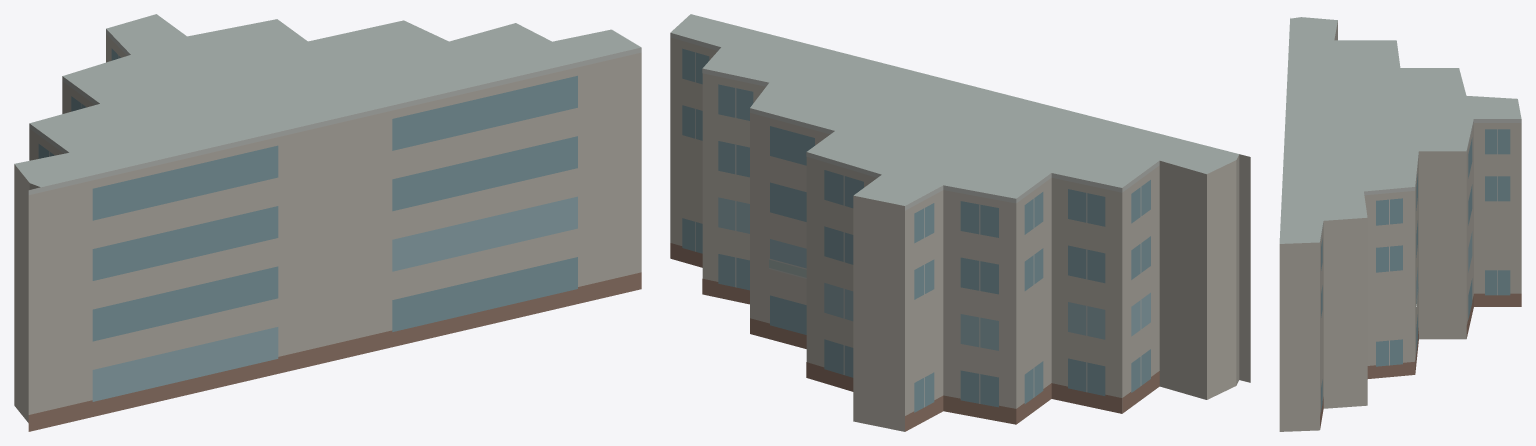
File: survey-upis-32809378.glb
3 views of the same model, side by side, from view 1: azimuth 30°, elevation 25°; view 2: azimuth 150°, elevation 25°; view 3: azimuth 270°, elevation 25° (orthographic). The views are drawn at different scales.
Visible parts, largest first — view 1: survey-upis-32809378.tmp; view 2: survey-upis-32809378.tmp; view 3: survey-upis-32809378.tmp.
Part boxes in pixels (box(x1,y1,x2,y2)): survey-upis-32809378.tmp: box(14, 14, 641, 431); survey-upis-32809378.tmp: box(670, 14, 1250, 431); survey-upis-32809378.tmp: box(1279, 17, 1521, 431).
Size of the model in its own units: 30.7 by 11.7 by 13.66.
